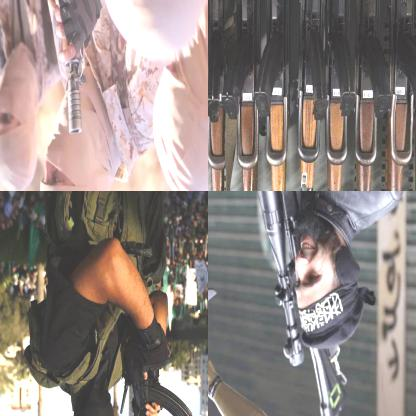rifle: (208, 191, 326, 415), (256, 191, 353, 415), (22, 0, 93, 137), (355, 0, 393, 190), (223, 0, 260, 190), (253, 0, 290, 190), (297, 0, 333, 190), (383, 0, 415, 190), (123, 336, 196, 415), (330, 0, 354, 190), (208, 0, 231, 190)
